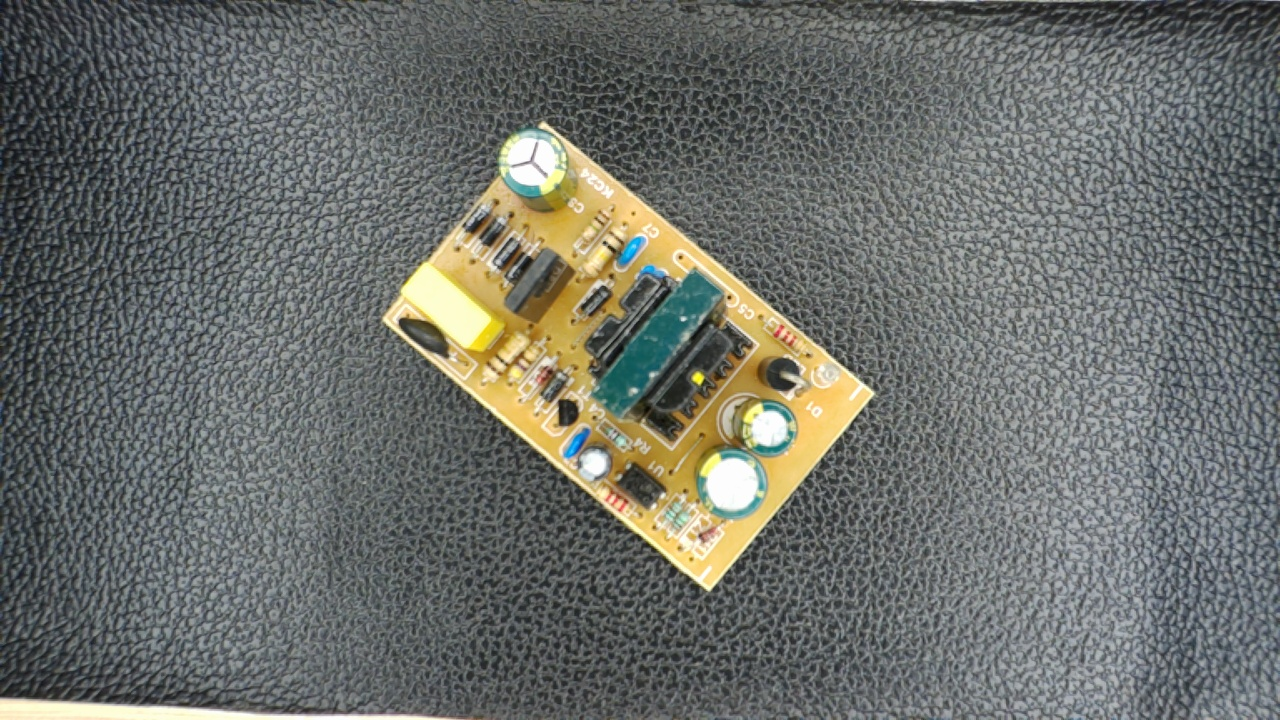fuse: (395, 303, 455, 363)
hv_capacitor: (495, 128, 584, 213)
optocoupler: (609, 453, 669, 513)
